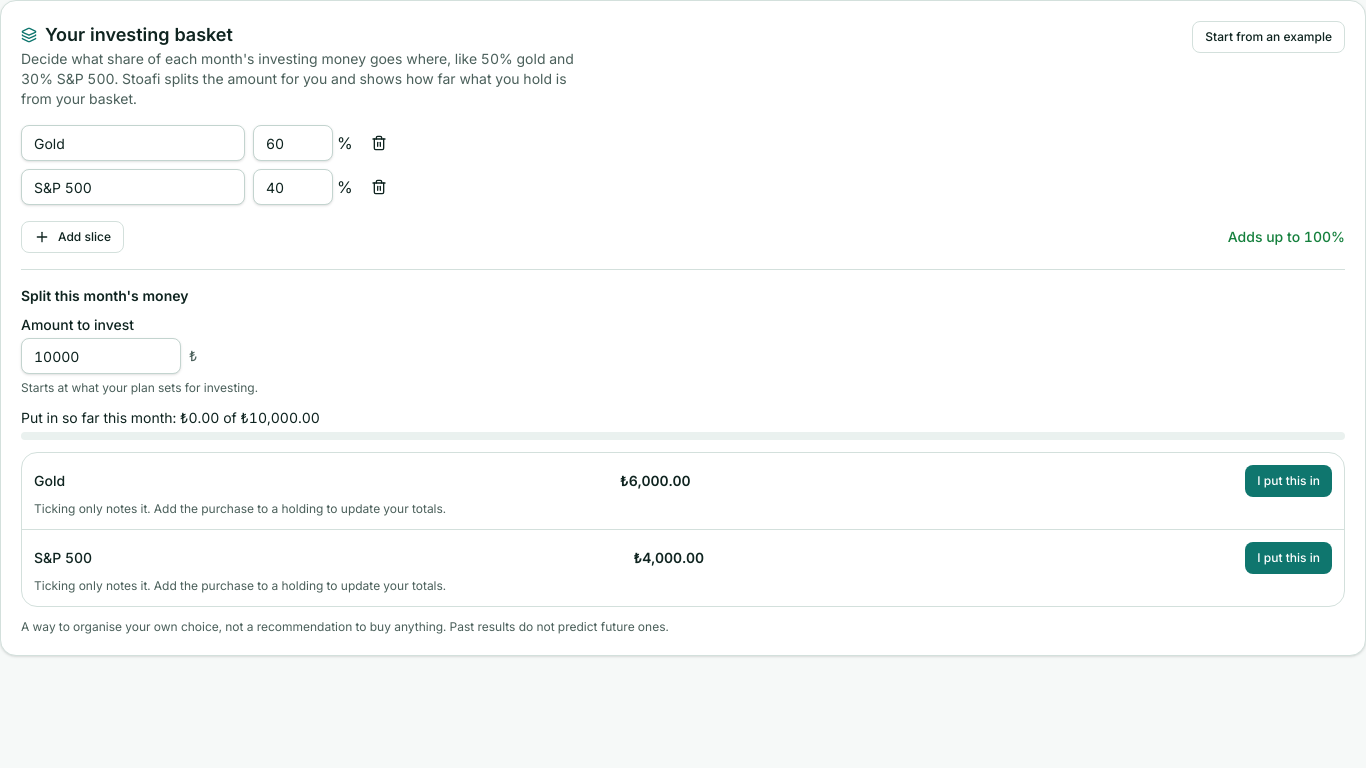
Scenario: BasketPanel ticking › lets the user tick a slice instead of typing the amount again
What coordinates should you click on to do the following:
click the button with aria-label "Mark Gold as invested"
I would click on:
 (1289, 481)
Its box is top-left (1245, 465), bottom-right (1332, 497).
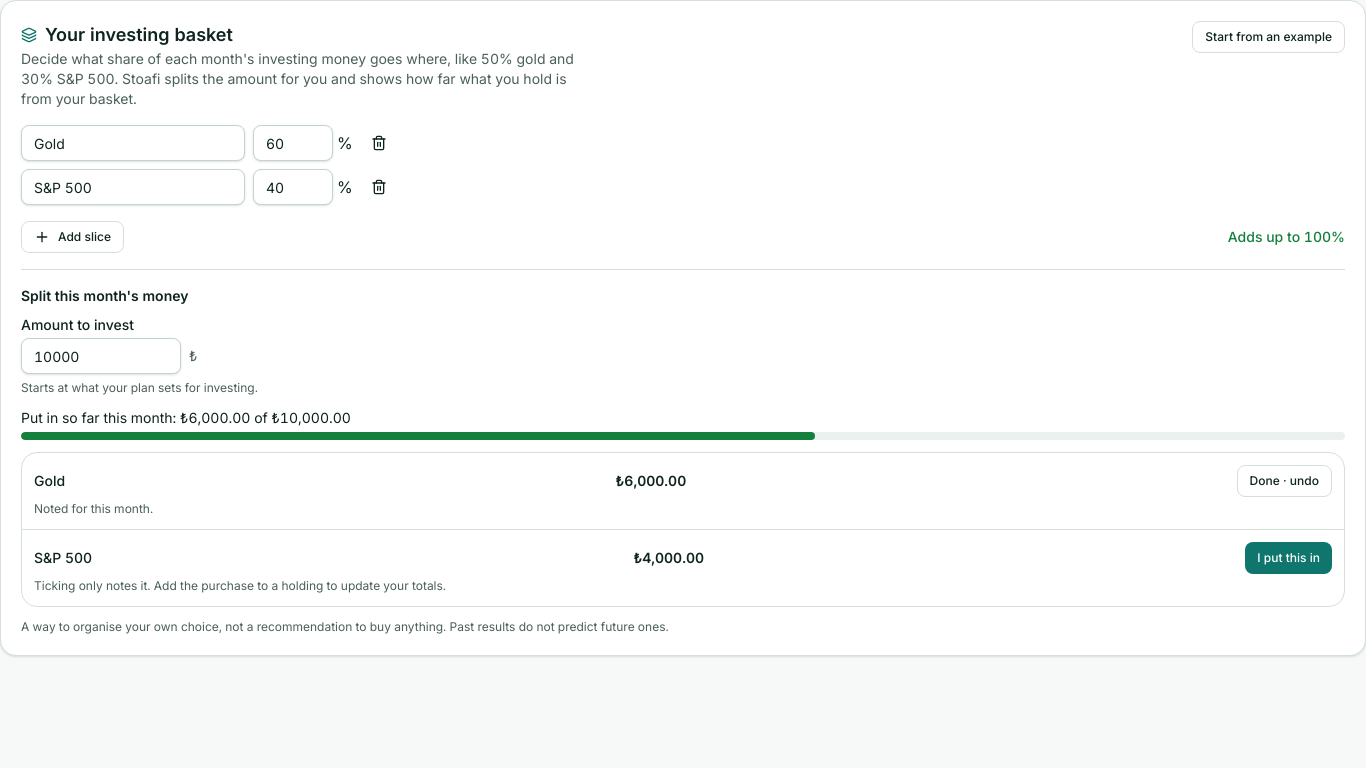
Expected: the list item with test id "split-gold" shows "Done · undo", top-left (1237, 465), bottom-right (1332, 497)
Expected: the list item with test id "split-gold" shows "Noted for this month.", top-left (34, 501), bottom-right (153, 516)
Expected: the element with test id "basket-progress" reads "Put in so far this month: ₺6,000.00 of ₺10,000.00", top-left (21, 409), bottom-right (351, 426)
